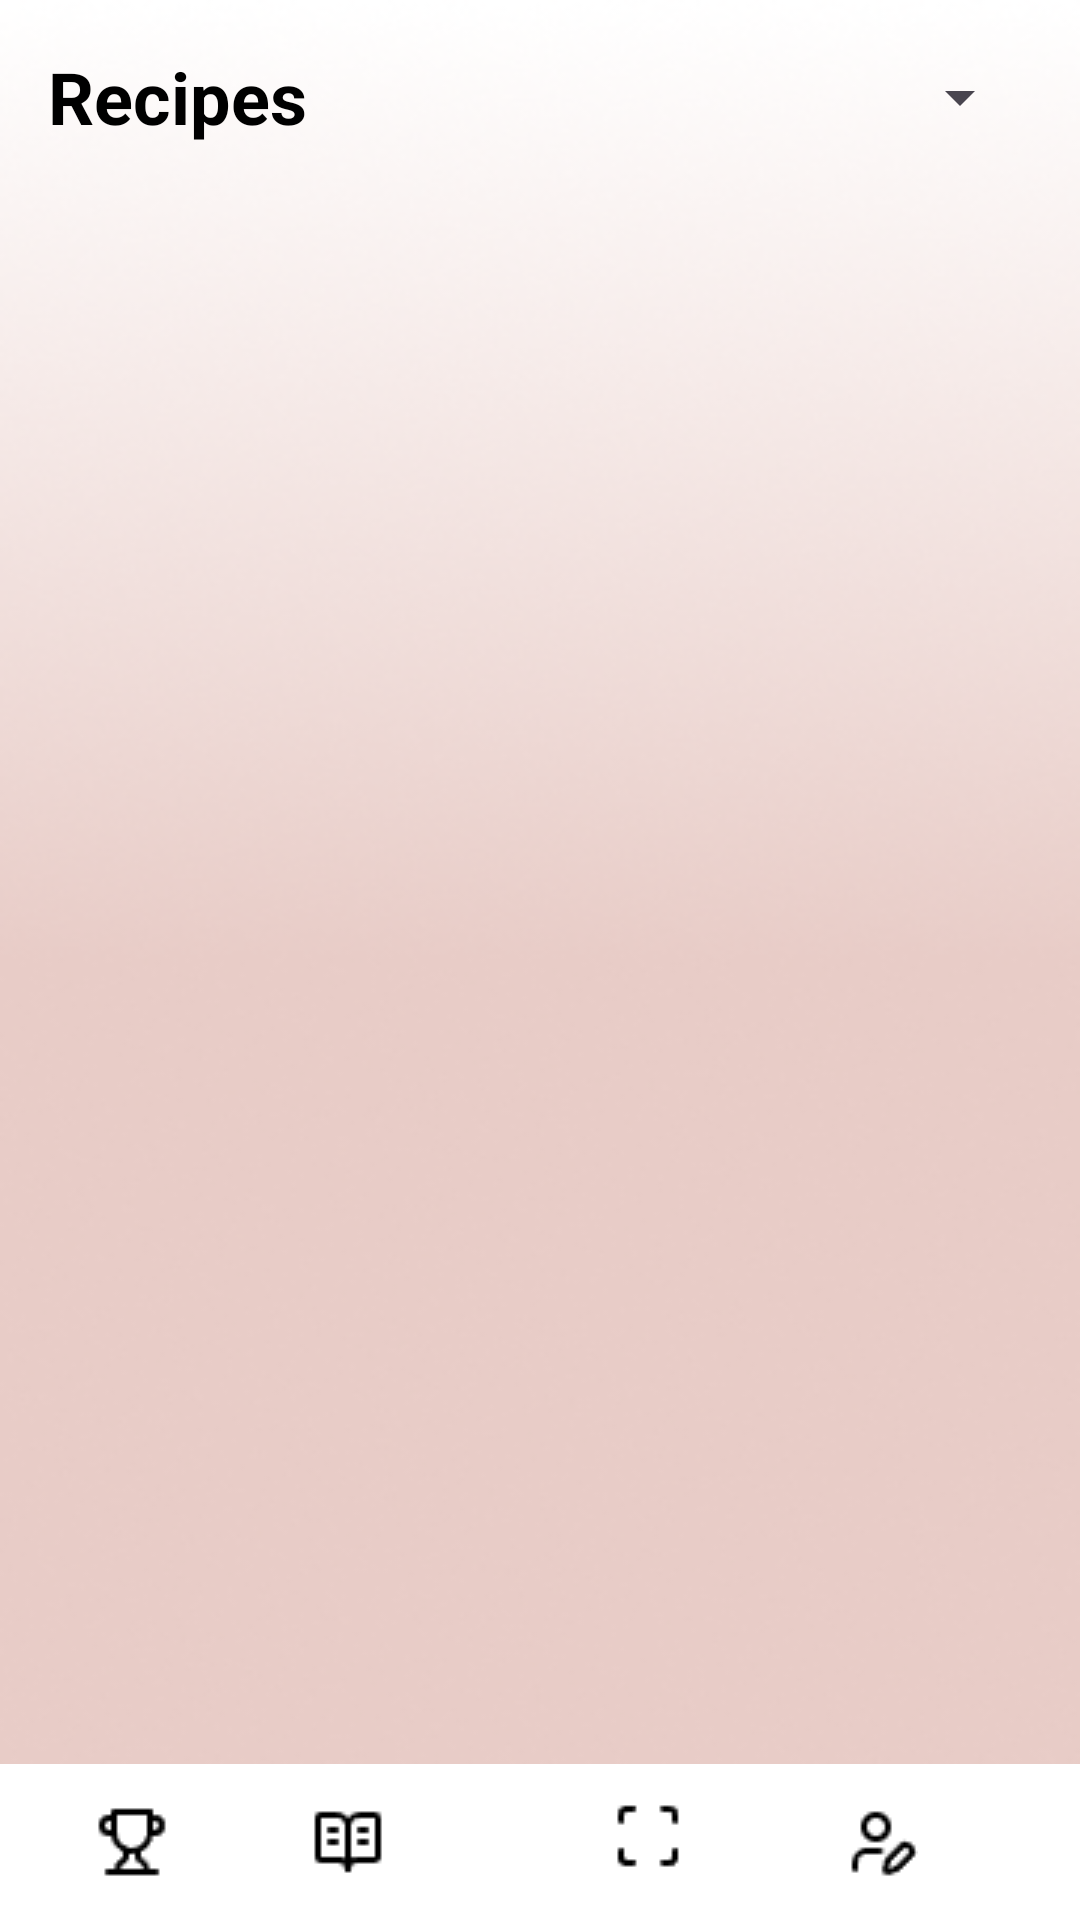

Where icons sit on this 1080×1920 app screen, as (x1, y1, x2, y2):
book open text: (314, 1811, 382, 1873)
scan: (617, 1805, 679, 1867)
trophy: (98, 1808, 166, 1876)
user pen: (851, 1811, 918, 1876)
